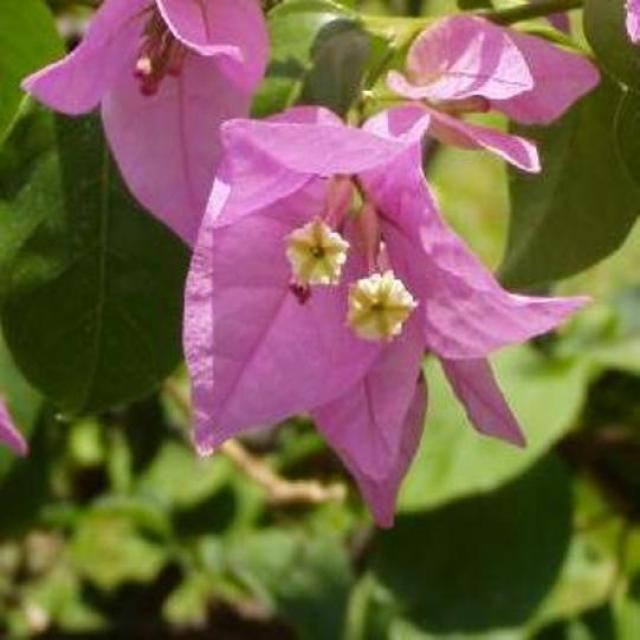bougainvillea: (165, 80, 583, 526)
